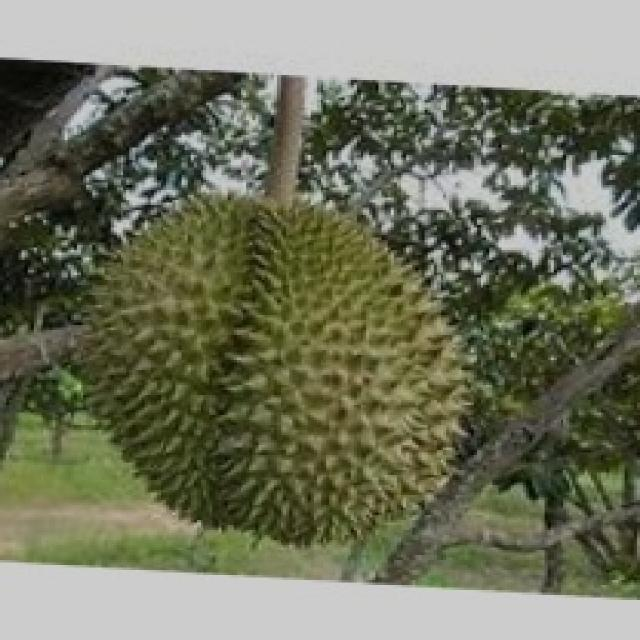fruit: (22, 138, 416, 560)
